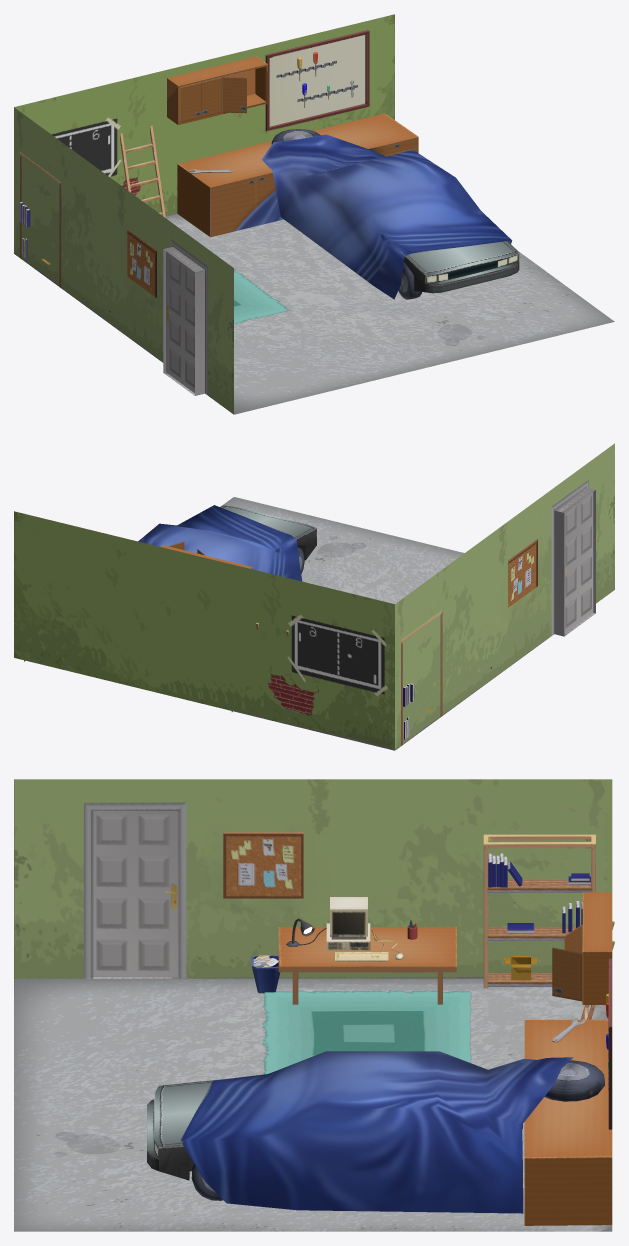
The model's file is level1.glb.
The picture shows the model from 3 angles, top to bottom: view 1: azimuth 30°, elevation 25°; view 2: azimuth 150°, elevation 25°; view 3: azimuth 270°, elevation 25°; orthographic projection. The views are drawn at different scales.
Visible parts, largest first — view 1: Plane, Plane.011, Plane.001, Plane.003, Plane.004, Cube.022, Plane.008, Plane.002, Plane.007, Cube, Cube.001; view 2: Plane, Plane.011, Plane.008, Plane.007, Cube.022, Cube.001; view 3: Plane, Plane.011, Plane.008, Plane.001, Plane.002, Cube.003, Cube.001, Plane.007, Plane.004, Cube.022, Plane.010, Circle.004 (+2 smaller).
Boxes of the visible parts, left/top/right/bottom form: Plane: left=14, top=14, right=614, bottom=414; Plane.011: left=262, top=134, right=512, bottom=299; Plane.001: left=177, top=113, right=418, bottom=237; Plane.003: left=265, top=30, right=369, bottom=131; Plane.004: left=167, top=56, right=268, bottom=124; Cube.022: left=397, top=241, right=519, bottom=293; Plane.008: left=166, top=248, right=202, bottom=394; Plane.002: left=234, top=269, right=289, bottom=324; Plane.007: left=127, top=229, right=156, bottom=297; Cube: left=120, top=125, right=165, bottom=217; Cube.001: left=20, top=152, right=61, bottom=287; Plane: left=14, top=443, right=614, bottom=750; Plane.011: left=138, top=505, right=302, bottom=581; Plane.008: left=557, top=488, right=593, bottom=634; Plane.007: left=508, top=538, right=537, bottom=607; Cube.022: left=220, top=505, right=316, bottom=560; Cube.001: left=401, top=610, right=442, bottom=746; Plane: left=14, top=779, right=612, bottom=1231; Plane.011: left=180, top=1051, right=573, bottom=1213; Plane.008: left=92, top=810, right=178, bottom=976; Plane.001: left=524, top=1019, right=612, bottom=1225; Plane.002: left=262, top=989, right=473, bottom=1074; Cube.003: left=278, top=927, right=456, bottom=1004; Cube.001: left=483, top=834, right=595, bottom=988; Plane.007: left=223, top=832, right=303, bottom=898; Plane.004: left=552, top=892, right=612, bottom=1004; Cube.022: left=147, top=1078, right=233, bottom=1180; Plane.010: left=326, top=897, right=403, bottom=961; Circle.004: left=544, top=1060, right=604, bottom=1101.
Size of the model in its own units: 5.18 by 1.88 by 5.07.
8 materials, 7 textured.
